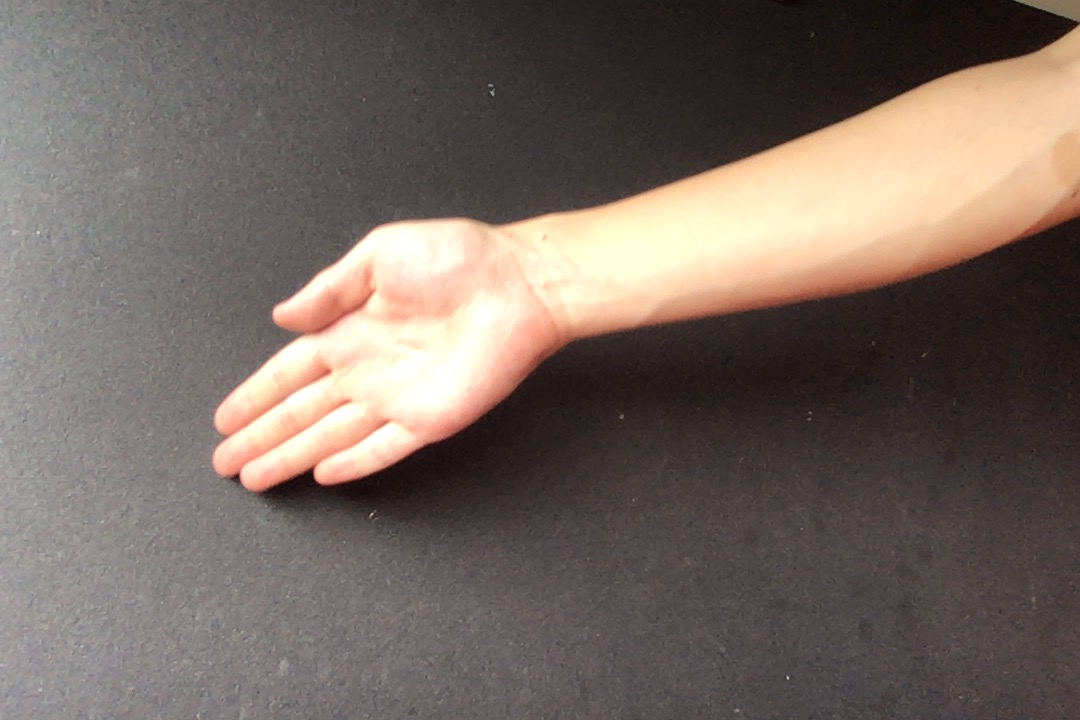palmhand: (203, 212, 565, 501)
